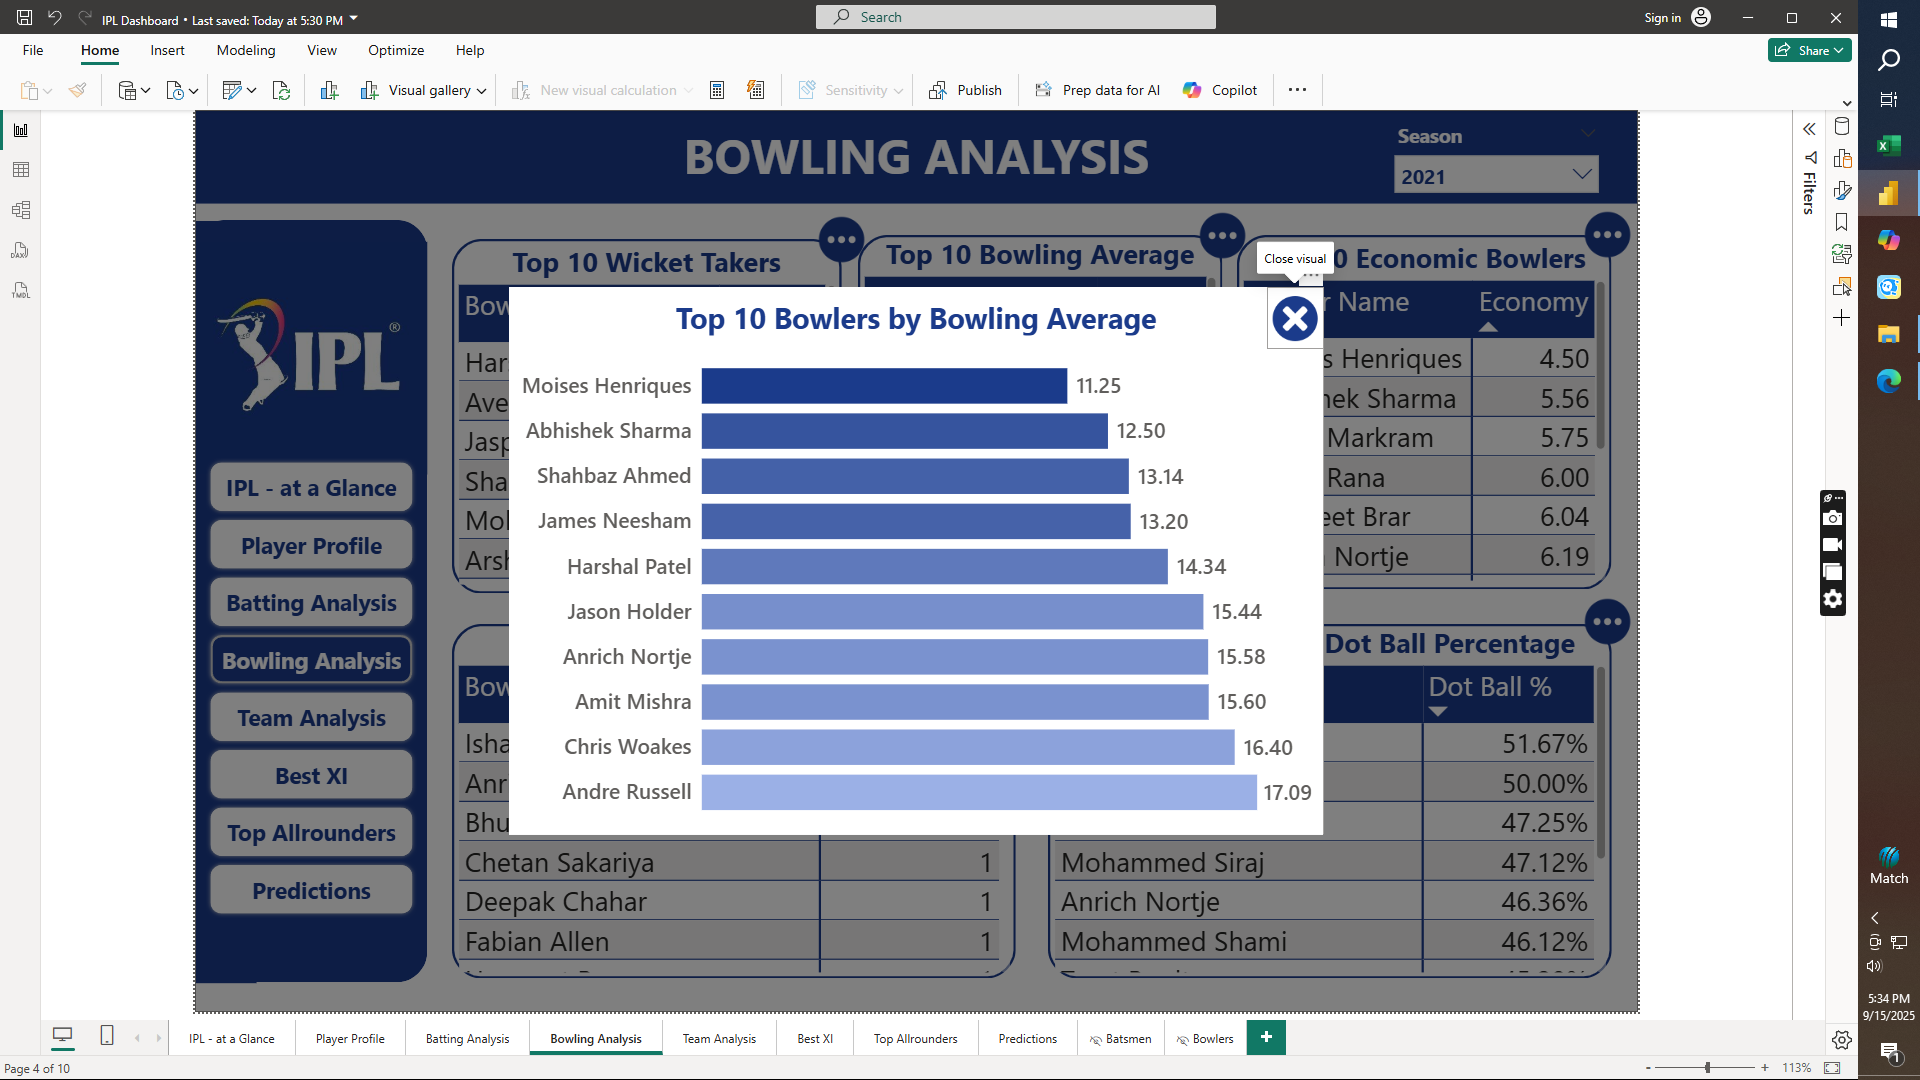

This screenshot's page, from the dashboard's own definition file:
{"tool":"powerbi","page":{"name":"Bowling Analysis","canvas":[1280,800],"ordinal":3},"visuals":[{"type":"shape","box":[0,0,1279.7,83.1],"z":0,"group":"g1"},{"type":"shape","box":[587.7,111,323.3,314.4],"z":0},{"type":"textbox","box":[0,4.9,1279.7,73.2],"z":1000,"group":"g1"},{"type":"shape","box":[227.8,455.4,500,314.4],"z":1000},{"type":"shape","box":[924.4,111,332.2,314.4],"z":2000},{"type":"tableEx","title":"Top 10 Economic Bowlers","fields":{"Values":["Balls bowled by bowlers.Bowler Name","_Measures.Bowler's Economy"]},"box":[924.4,114.3,332.2,307.8],"z":3000},{"type":"shape","box":[227.8,114.3,345.6,314.4],"z":4000},{"type":"tableEx","title":"Top 10 Wicket Takers","fields":{"Values":["Balls bowled by bowlers.Bowler Name","_Measures.Total Wickets"]},"box":[227.8,117.7,345.6,307.8],"z":5000},{"type":"shape","box":[756.7,455.4,500,314.4],"z":6000},{"type":"tableEx","title":"Top 10 Bowling Average","fields":{"Values":["Balls bowled by bowlers.Bowler Name","_Measures.Bowling Average"]},"box":[587.7,111,323.3,314.4],"z":7000},{"type":"tableEx","title":"Top 10 Bowlers by Dot Ball Percentage","fields":{"Values":["Balls bowled by bowlers.Bowler Name","_Measures.Dot Ball Percentahge"]},"box":[756.7,455.4,500,314.4],"z":8000},{"type":"tableEx","title":"Top 10 Bowlers by Maiden Overs","fields":{"Values":["Balls bowled by bowlers.Bowler Name","Sum(fact_bowling_summary.maiden)"]},"box":[227.8,455.4,500,314.4],"z":9000},{"type":"group","id":"g1","title":"Group 1","box":[0,0,1279.7,83.1],"z":10000},{"type":"slicer","fields":{"Values":["Finalists.Year"]},"box":[1059,4.9,191,69.3],"z":11000},{"type":"shape","box":[0,98,54.6,676],"z":12000},{"type":"shape","box":[0,98,205.9,676],"z":13000},{"type":"image","box":[0,110.3,205.9,219.7],"z":14000},{"type":"pageNavigator","box":[9.9,308.4,187.2,410.8],"z":15000},{"type":"image","box":[1224.4,425.6,55.6,55.6],"z":16000},{"type":"image","box":[1224.4,82.2,55.6,55.6],"z":17000},{"type":"image","box":[700,428.9,55.6,55.6],"z":18000},{"type":"image","box":[883.3,83.3,55.6,55.6],"z":19000},{"type":"image","box":[545.6,86.7,55.6,55.6],"z":20000}]}

Visuals, with their boxes on the page's 1280x800 design canvas (x1, y1, x2, y2). These are canvas units, not pixel positions in the 1920x1080 screenshot, which may show the page scaled, cropped or inside an application window:
shape: 0 0 1280 83
shape: 588 111 911 425
textbox: 0 5 1280 78
shape: 228 455 728 770
shape: 924 111 1257 425
"Top 10 Economic Bowlers" tableEx: 924 114 1257 422
shape: 228 114 573 429
"Top 10 Wicket Takers" tableEx: 228 118 573 426
shape: 757 455 1257 770
"Top 10 Bowling Average" tableEx: 588 111 911 425
"Top 10 Bowlers by Dot Ball Percentage" tableEx: 757 455 1257 770
"Top 10 Bowlers by Maiden Overs" tableEx: 228 455 728 770
"Group 1" group: 0 0 1280 83
slicer - Finalists.Year: 1059 5 1250 74
shape: 0 98 55 774
shape: 0 98 206 774
image: 0 110 206 330
pageNavigator: 10 308 197 719
image: 1224 426 1280 481
image: 1224 82 1280 138
image: 700 429 756 484
image: 883 83 939 139
image: 546 87 601 142
